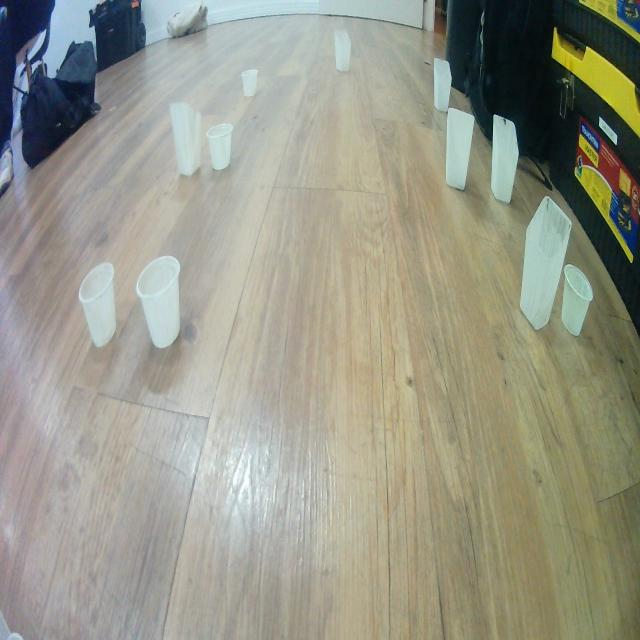erva_daninha: (520, 196, 572, 331), (491, 114, 519, 204), (169, 101, 201, 177), (446, 107, 474, 191), (433, 57, 452, 114), (334, 28, 352, 72)
planta: (134, 254, 182, 350), (79, 262, 118, 348), (562, 263, 593, 337), (206, 122, 233, 170), (240, 70, 258, 98)
